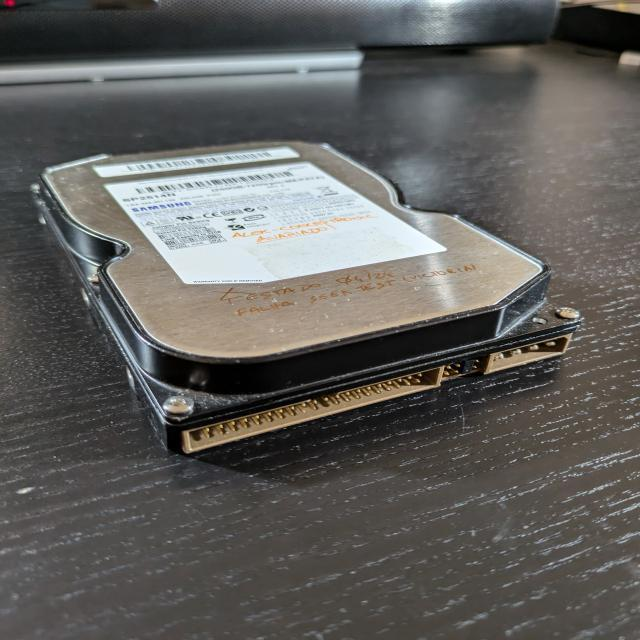DISK: (29, 138, 584, 457)
